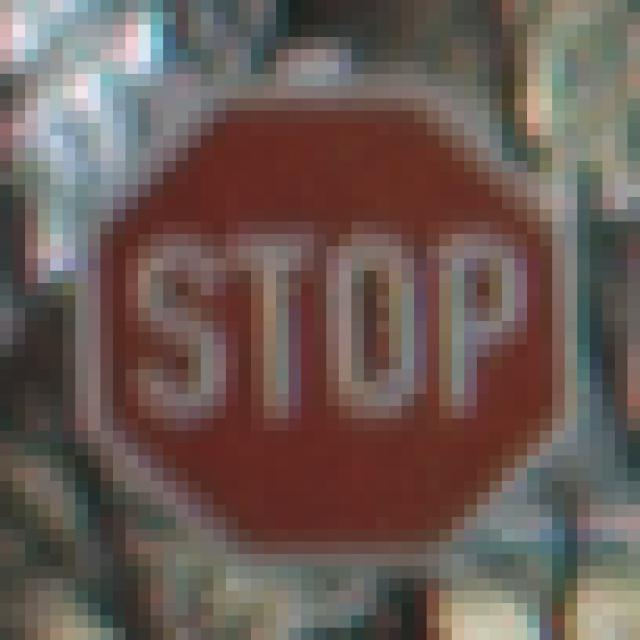STOP: (64, 75, 578, 579)
